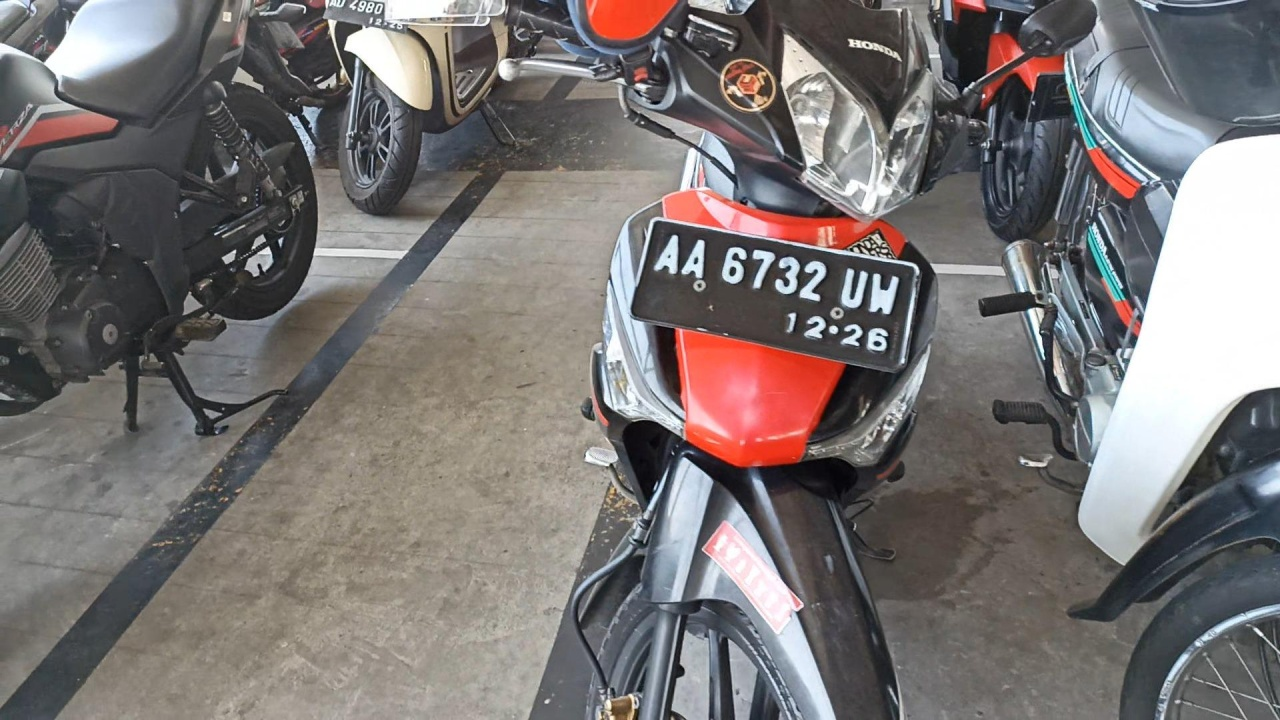plate: (630, 217, 921, 373)
